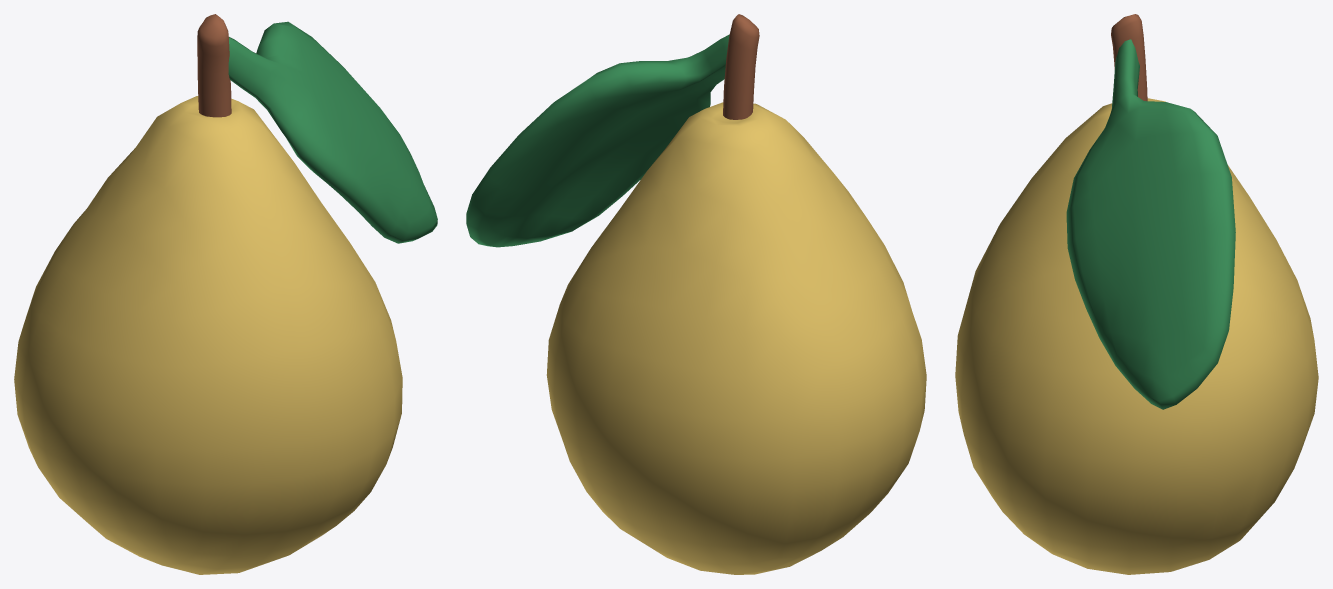
File: Pear_01.dae
3 renders of one model, left to right at view 1: azimuth 30°, elevation 25°; view 2: azimuth 150°, elevation 25°; view 3: azimuth 270°, elevation 25°, orthographic.
Parts seen in each view (by area): view 1: Pear_01_LOD0; view 2: Pear_01_LOD0; view 3: Pear_01_LOD0.
Boxes of the visible parts, bbox=[...] form: Pear_01_LOD0: bbox=[14, 14, 437, 574]; Pear_01_LOD0: bbox=[466, 14, 926, 574]; Pear_01_LOD0: bbox=[955, 14, 1318, 574].
Size of what is drawn, in the model's own units: 4.37 by 3.35 by 5.54.
